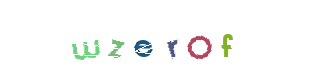0: (159, 0, 239, 80)
E: (114, 0, 194, 80)
F: (186, 0, 266, 80)
R: (115, 0, 195, 80)
W: (59, 0, 139, 80)
Z: (112, 0, 192, 80)
